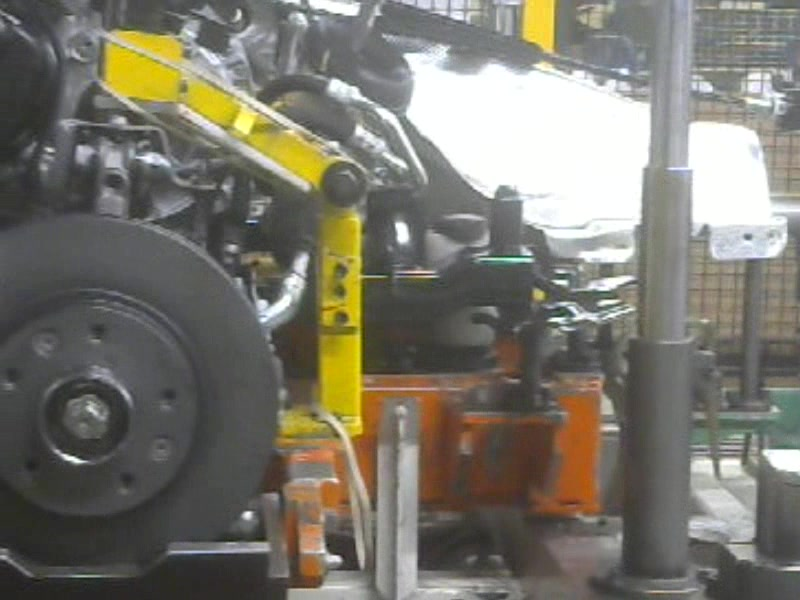DD3: (1, 211, 281, 541)
